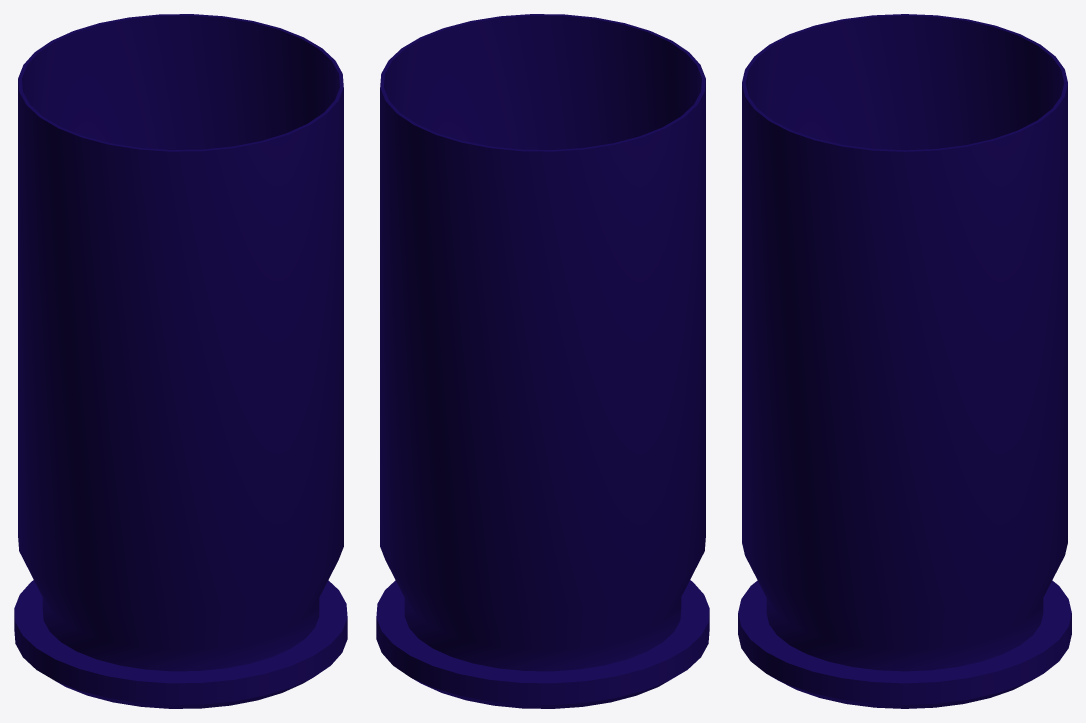
Rendered from Shell (HQ).FBX.
The picture shows the model from 3 angles, left to right: view 1: azimuth 30°, elevation 25°; view 2: azimuth 150°, elevation 25°; view 3: azimuth 270°, elevation 25°; orthographic projection.
Visible parts, largest first — view 1: Shell; view 2: Shell; view 3: Shell.
Boxes of the visible parts, x1,y1,x2,y2 form: Shell: (14,14,347,708); Shell: (376,14,709,708); Shell: (738,14,1071,708).
Bounding box in the file's own units: 1.18 × 2.2 × 1.18.
